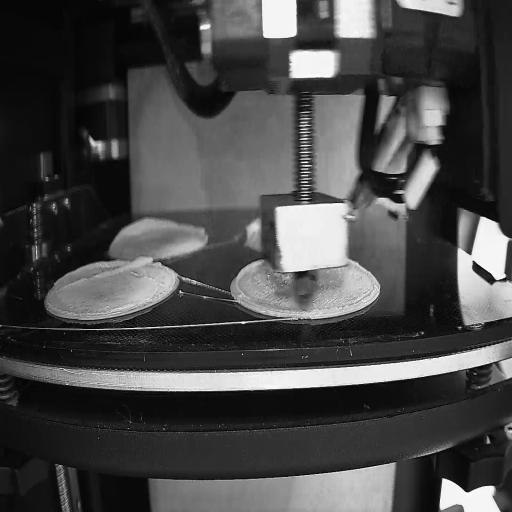over_extrusion: (57, 254, 153, 292), (108, 214, 207, 250), (233, 258, 267, 298)
